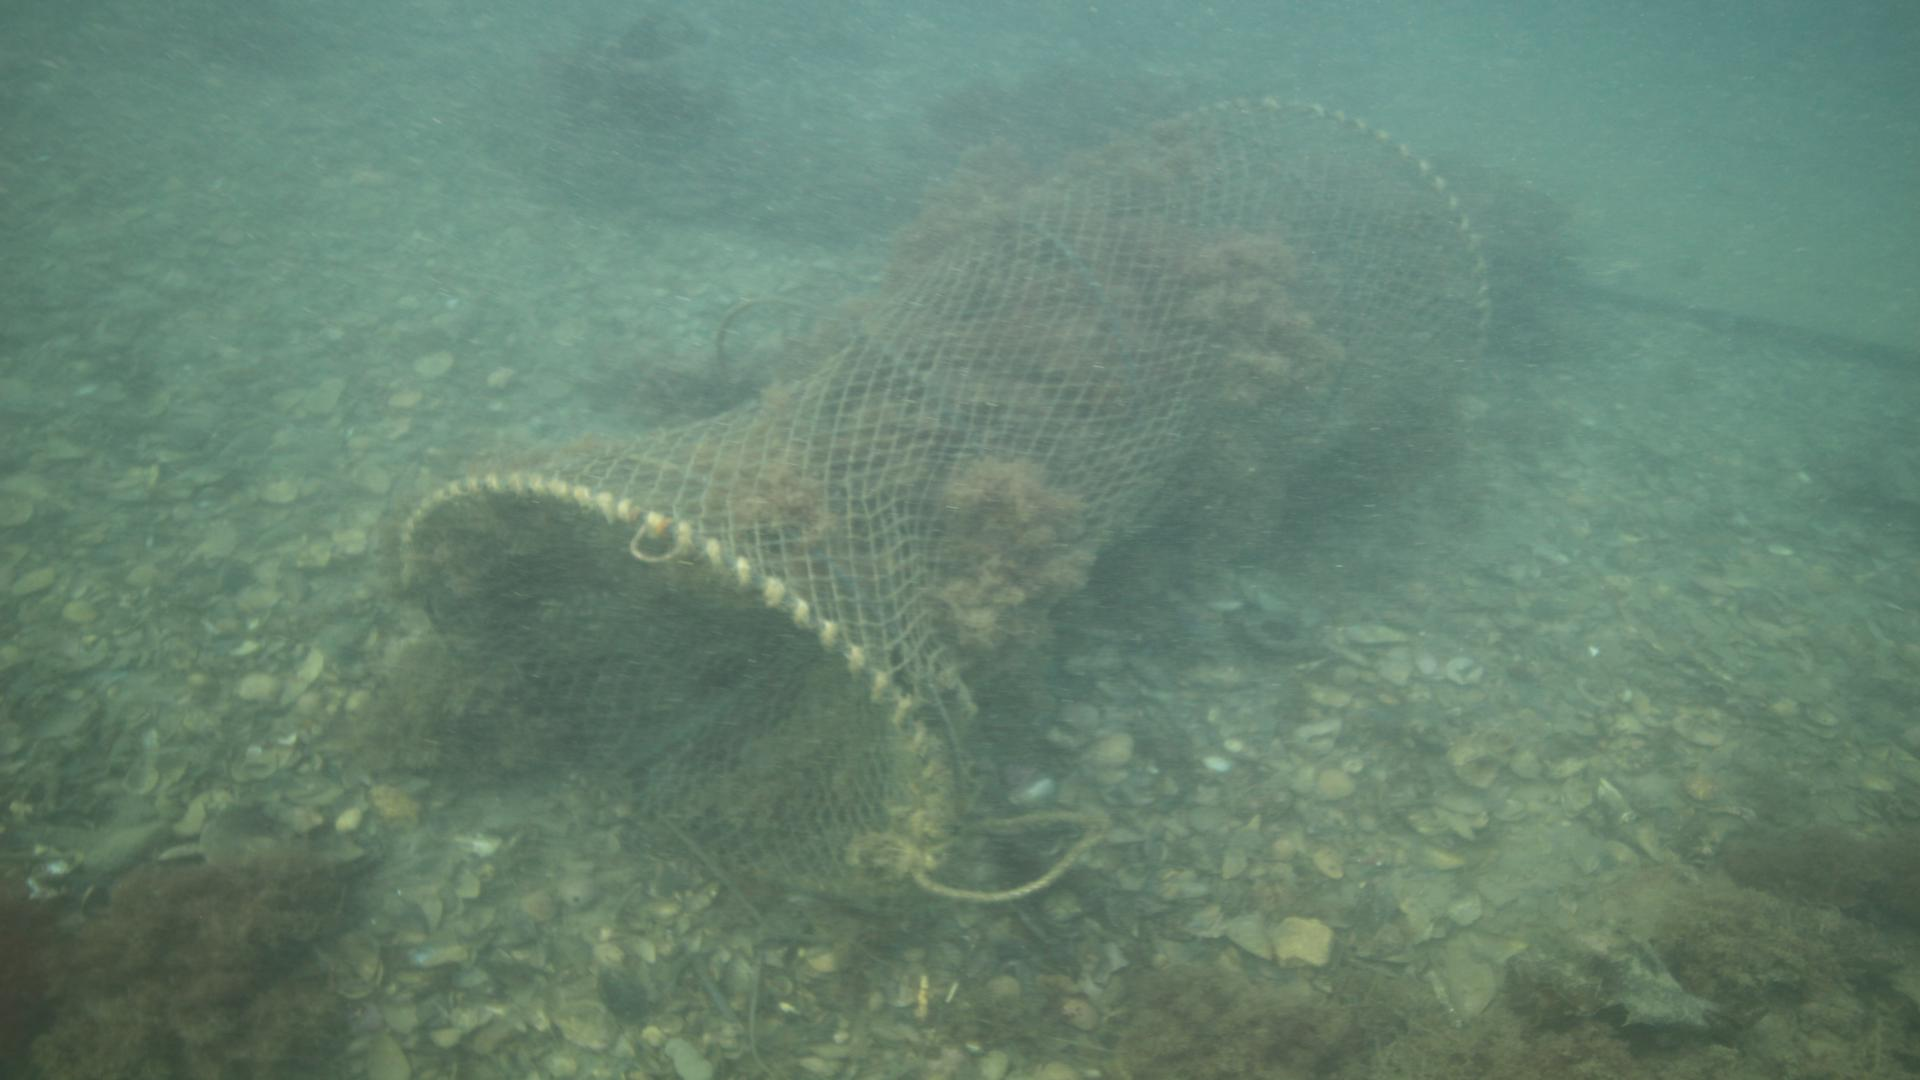rope: (902, 811, 1109, 899)
spring fish trap: (396, 94, 1490, 893)
